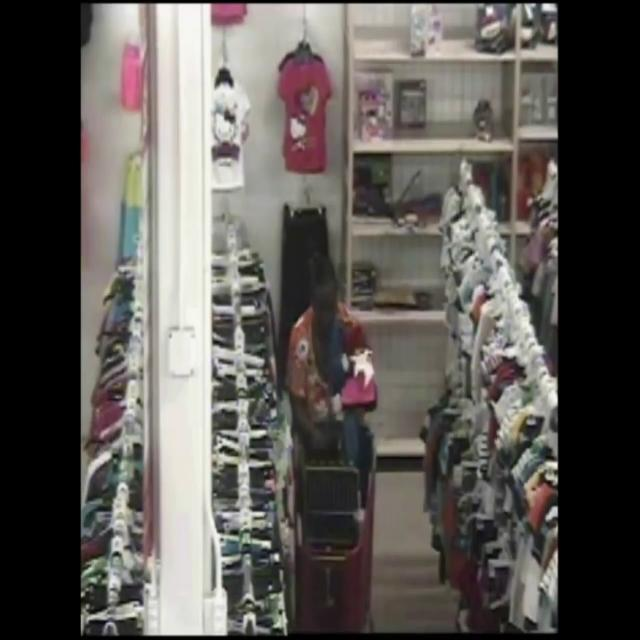Product: (321, 330, 362, 416)
shoplifting: (259, 213, 407, 579)
